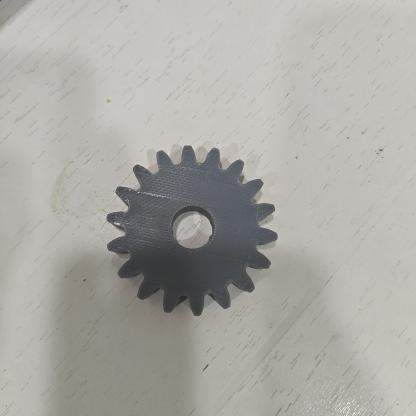gear: (91, 138, 291, 328)
